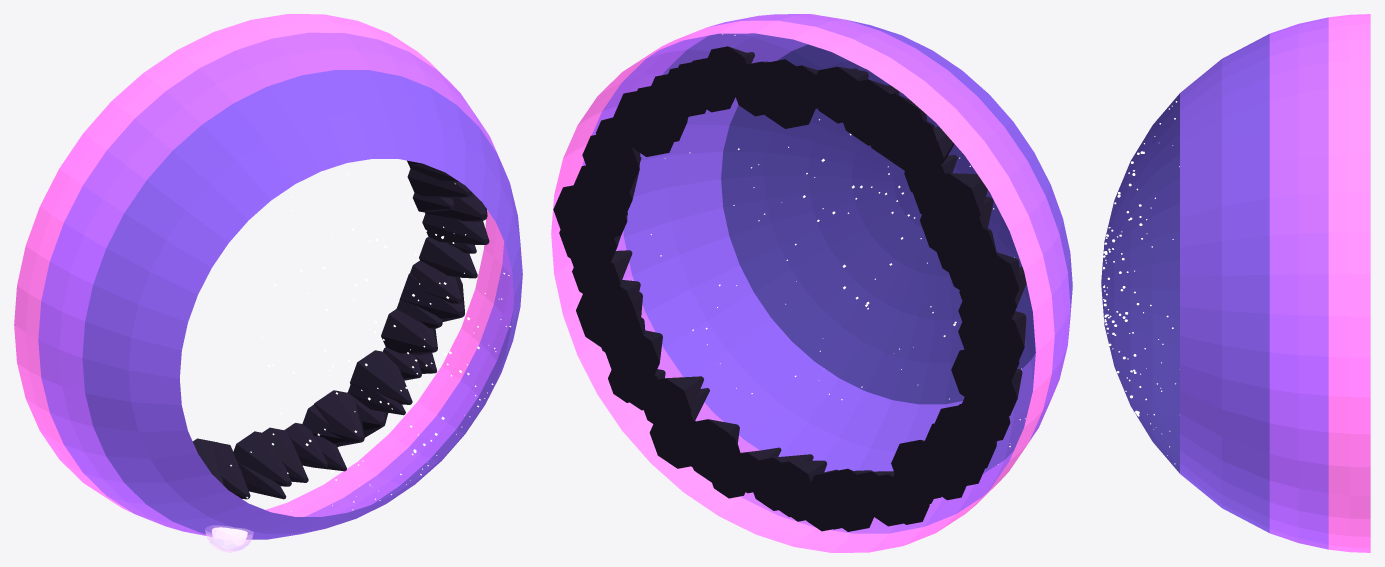
Rendered from keep_sky.gltf.
3 views of the same model, side by side, from view 1: azimuth 30°, elevation 25°; view 2: azimuth 150°, elevation 25°; view 3: azimuth 270°, elevation 25° (orthographic). The views are drawn at different scales.
Parts seen in each view (by area): view 1: keep_sky_sky_m_m6, keep_sky_sky_l_m5, keep_sky_sky_h_m4, keep_sky_ridge, keep_sky_moon_halo, keep_sky_star, keep_sky_moon; view 2: keep_sky_ridge, keep_sky_sky_t_m7, keep_sky_sky_m_m6, keep_sky_sky_h_m4, keep_sky_sky_l_m5; view 3: keep_sky_sky_m_m6, keep_sky_sky_l_m5, keep_sky_sky_h_m4, keep_sky_sky_t_m7, keep_sky_star.
Boxes of the visible parts, x1,y1,x2,y2 form: keep_sky_sky_m_m6: (82, 70, 522, 539); keep_sky_sky_l_m5: (38, 32, 513, 536); keep_sky_sky_h_m4: (14, 14, 503, 516); keep_sky_ridge: (193, 160, 489, 499); keep_sky_moon_halo: (205, 525, 253, 552); keep_sky_star: (189, 162, 511, 511); keep_sky_moon: (212, 527, 247, 548); keep_sky_ridge: (553, 46, 1026, 531); keep_sky_sky_t_m7: (721, 44, 1035, 404); keep_sky_sky_m_m6: (623, 20, 1072, 473); keep_sky_sky_h_m4: (551, 20, 1054, 552); keep_sky_sky_l_m5: (582, 14, 1070, 533); keep_sky_sky_m_m6: (1180, 34, 1269, 532); keep_sky_sky_l_m5: (1269, 17, 1328, 549); keep_sky_sky_h_m4: (1328, 14, 1370, 552); keep_sky_sky_t_m7: (1101, 93, 1179, 473); keep_sky_star: (1103, 101, 1179, 464).
Size of the model in its own units: 660 by 660 by 330.
